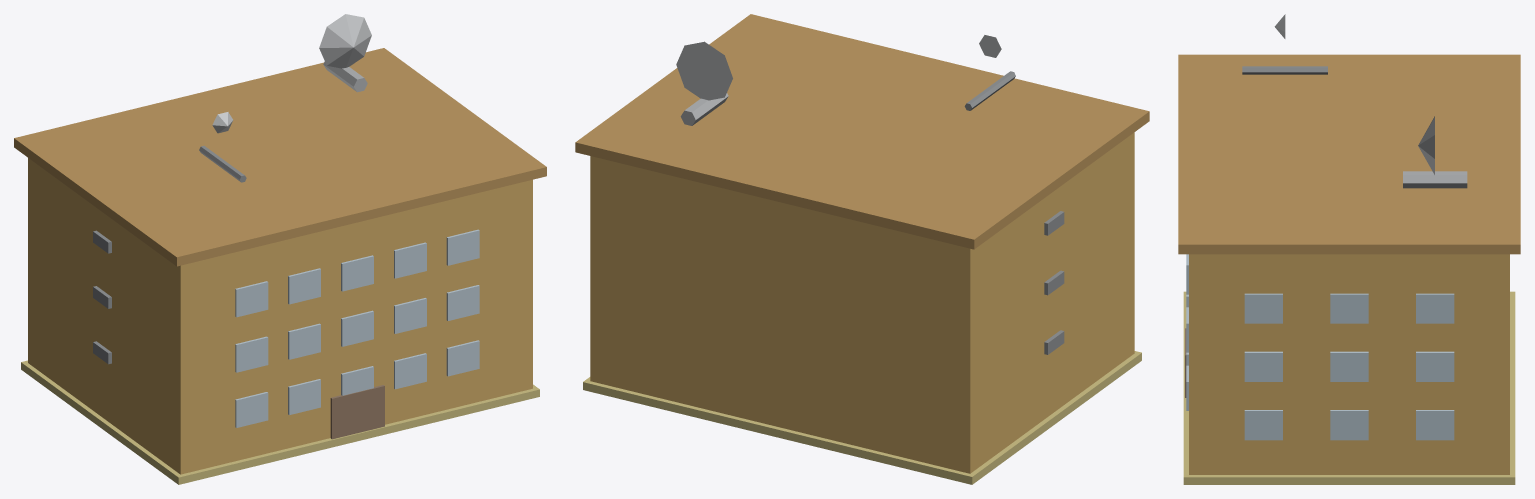
The model's file is building-mining-hq.glb.
3 views of the same model, side by side, from view 1: azimuth 30°, elevation 25°; view 2: azimuth 150°, elevation 25°; view 3: azimuth 270°, elevation 25° (orthographic). The views are drawn at different scales.
Parts seen in each view (by area): view 1: mining_hq; view 2: mining_hq; view 3: mining_hq.
Boxes of the visible parts, left/top/right/bottom form: mining_hq: left=14, top=14, right=546, bottom=484; mining_hq: left=575, top=14, right=1149, bottom=484; mining_hq: left=1178, top=14, right=1520, bottom=484.
Size of the model in its own units: 21 by 17.02 by 16.
